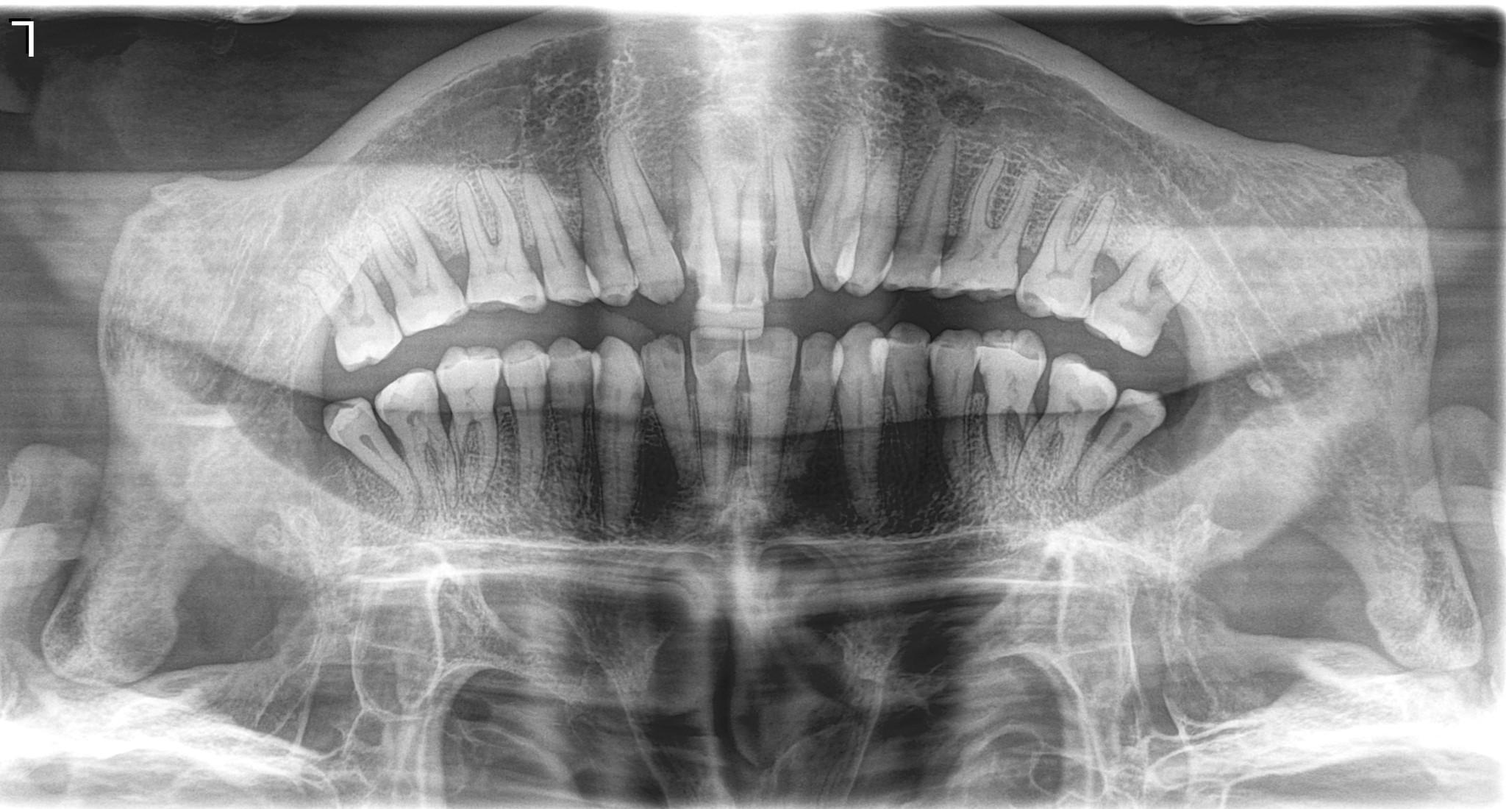Periapical Lesion: (776, 439, 849, 529), (886, 423, 949, 526), (636, 428, 683, 523), (577, 425, 608, 541)
Periodontal Pocket: (1101, 230, 1189, 351), (360, 238, 468, 323)
